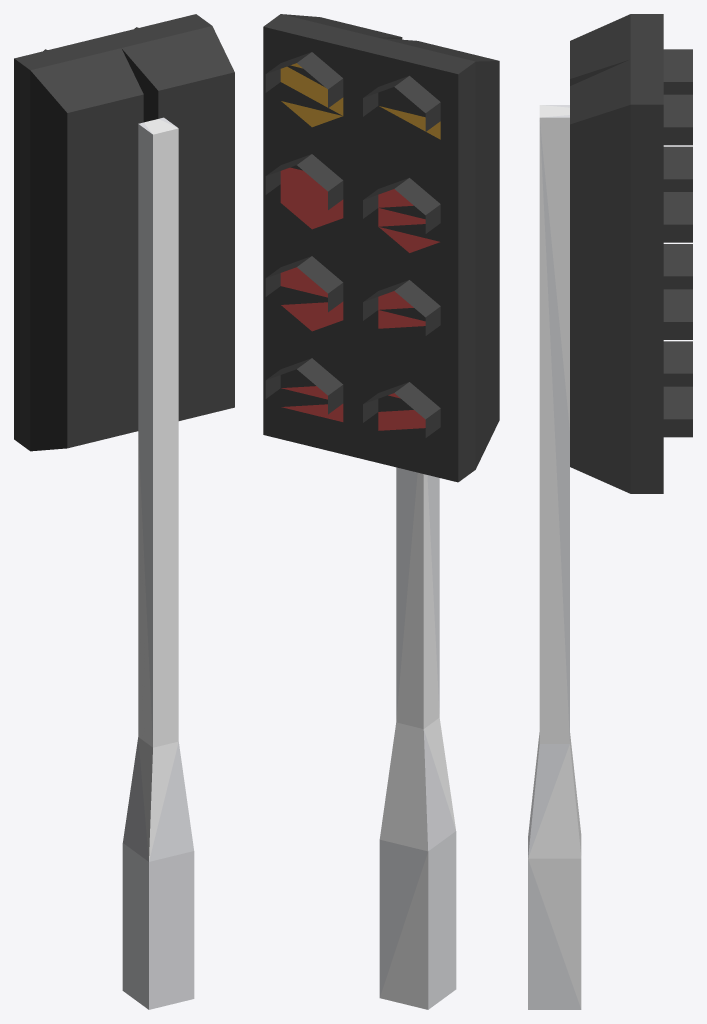
The model's file is lightRedDouble.obj.
The picture shows the model from 3 angles, left to right: view 1: azimuth 30°, elevation 25°; view 2: azimuth 150°, elevation 25°; view 3: azimuth 270°, elevation 25°; orthographic projection. The views are drawn at different scales.
Parts seen in each view (by area): view 1: lightRedDouble; view 2: lightRedDouble; view 3: lightRedDouble.
Boxes of the visible parts, x1,y1,x2,y2 form: lightRedDouble: (14, 14, 234, 1009); lightRedDouble: (263, 14, 499, 1009); lightRedDouble: (528, 14, 692, 1009).
Size of the model in its own units: 0.1416 by 0.6834 by 0.1087.
